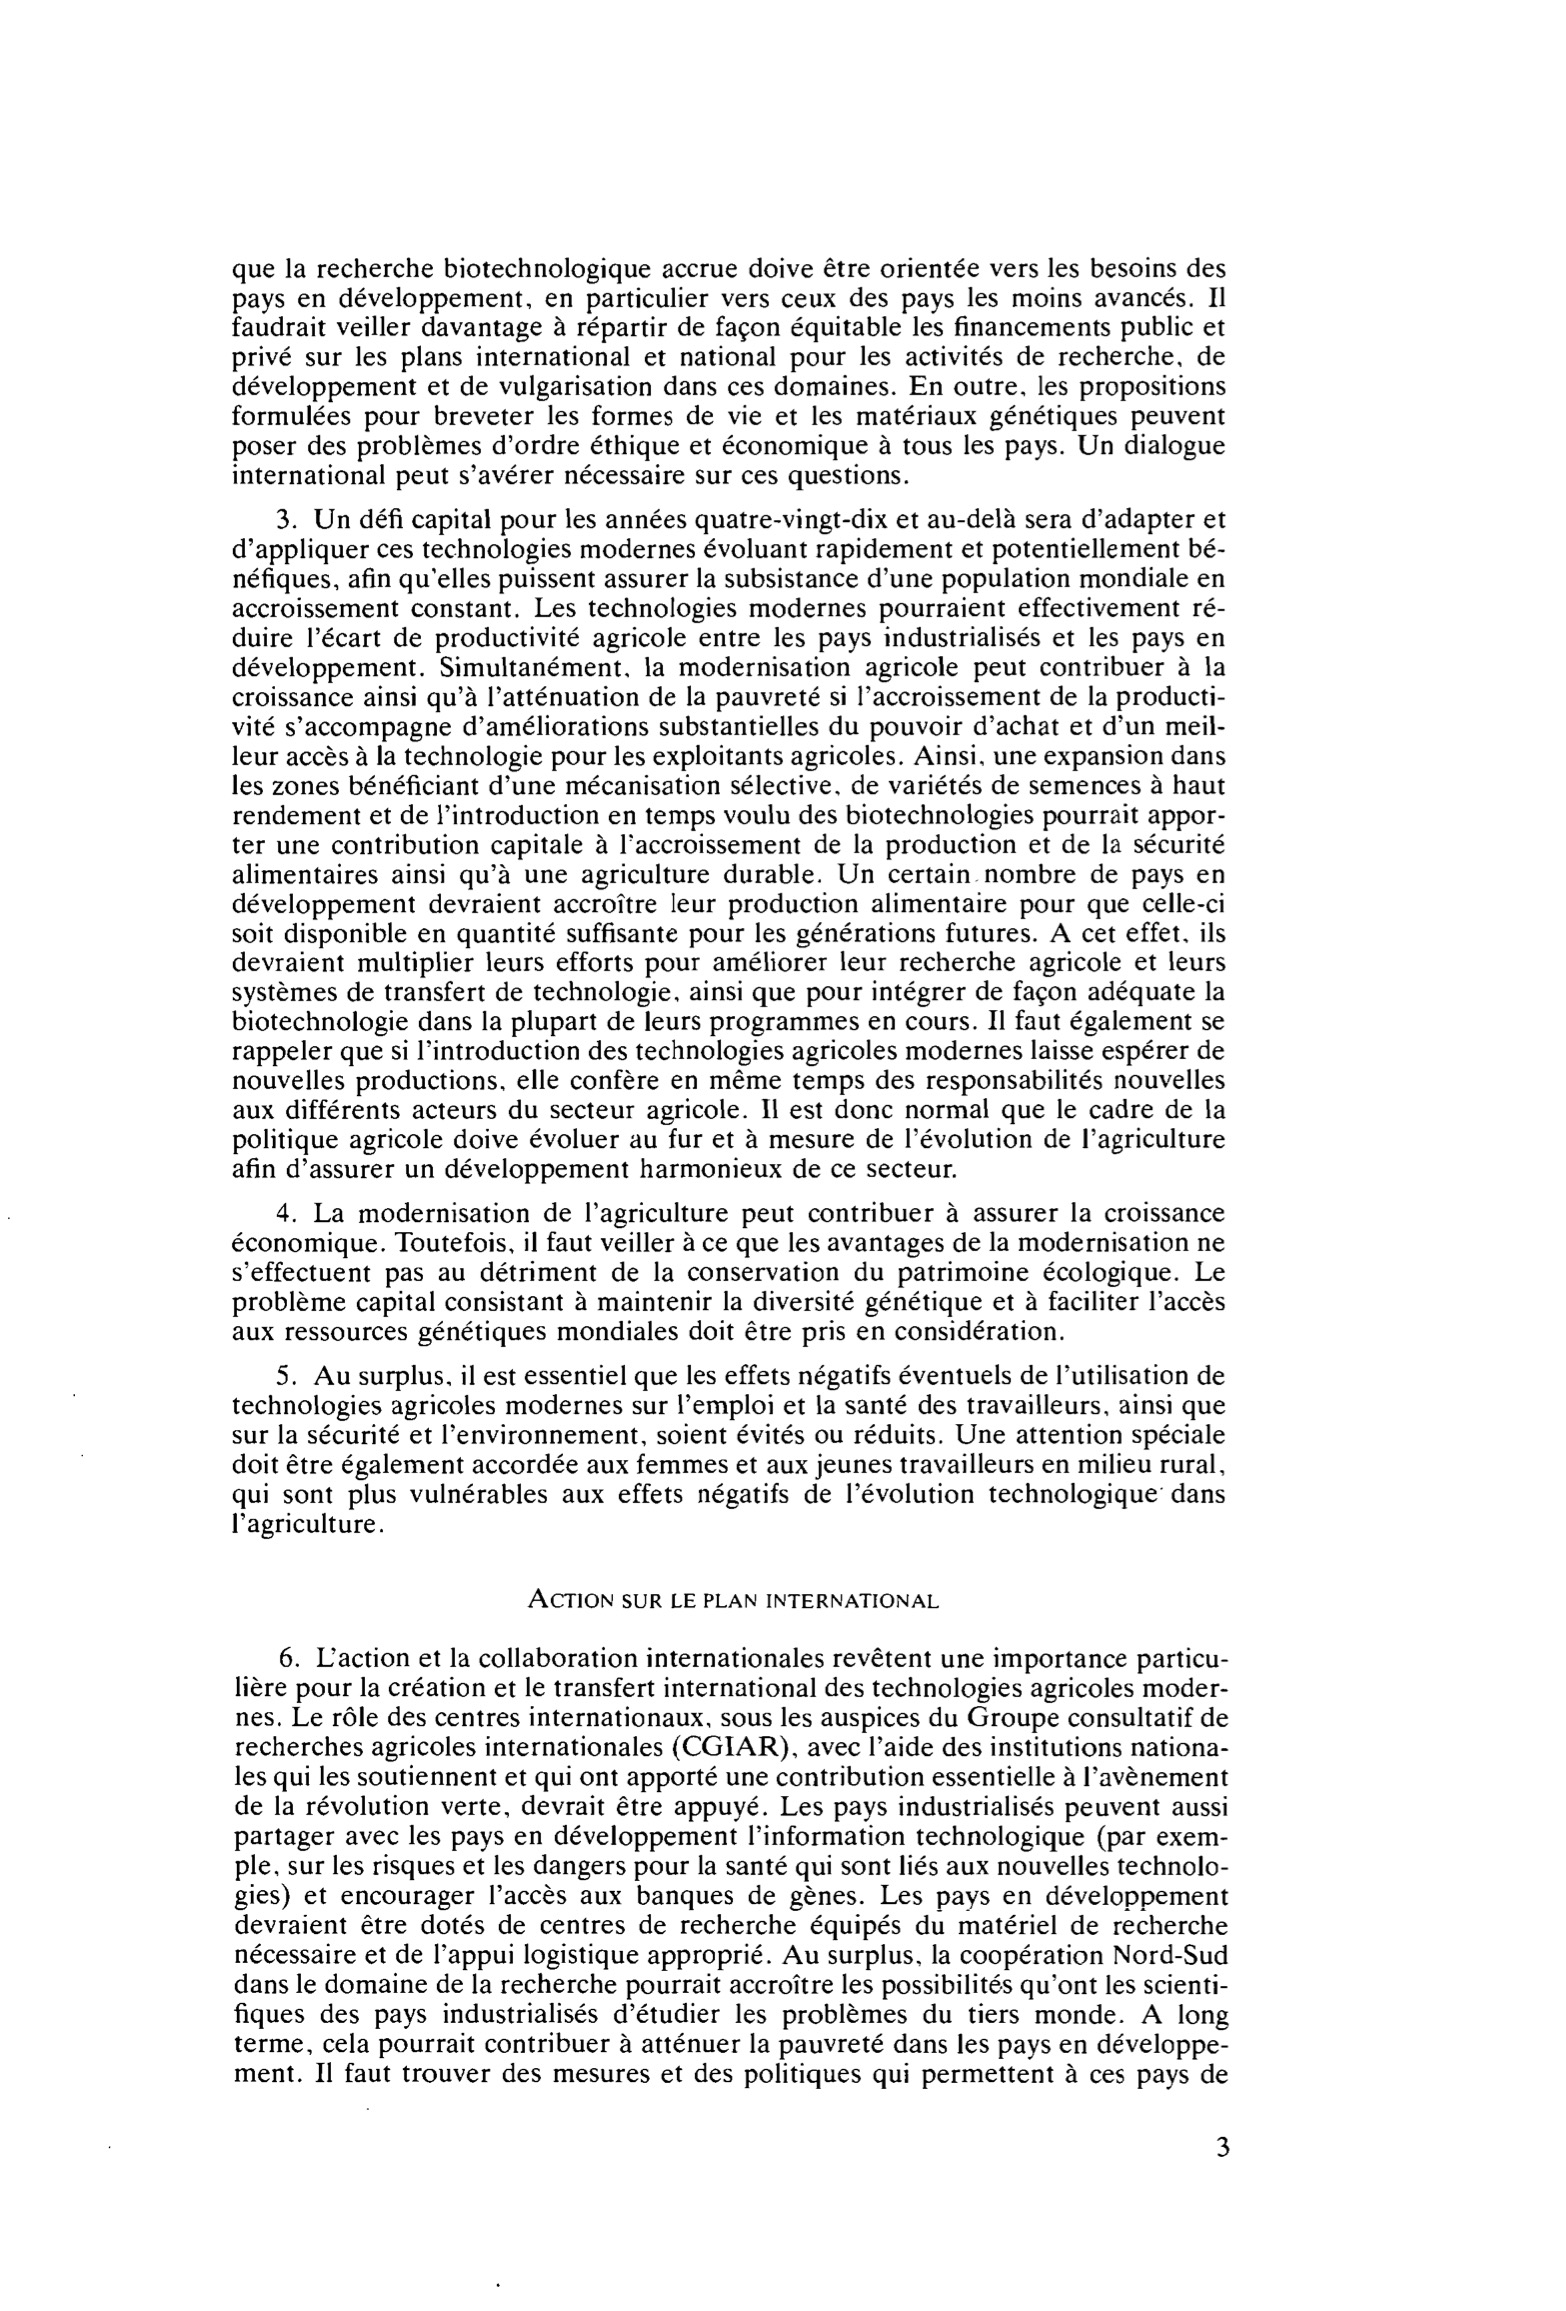MainZone-Continued: (222, 247, 1236, 491)
MainZone-Head: (514, 1575, 950, 1622)
MainZone-ListItem: (222, 498, 1236, 1185), (225, 1636, 1237, 2099), (223, 1353, 1234, 1547), (223, 1192, 1230, 1352)
NumberingZone: (1206, 2127, 1235, 2171)
